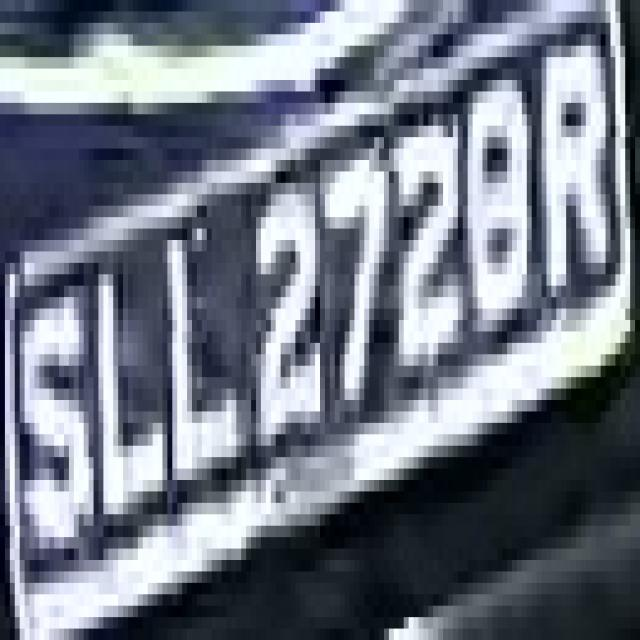2: (241, 171, 330, 480), (389, 103, 458, 411)
7: (315, 114, 404, 446)
8: (458, 69, 541, 388)
L: (153, 171, 246, 526), (99, 240, 168, 537)
R: (527, 46, 615, 331)
S: (20, 251, 103, 560)
